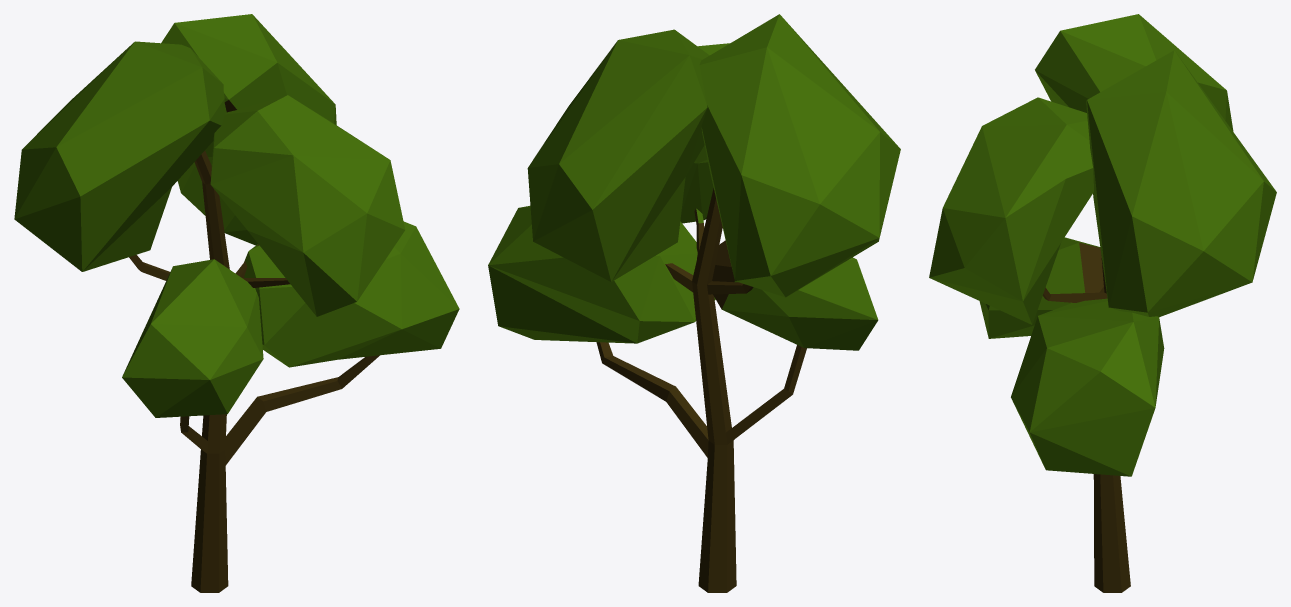
Rendered from tree5.fbx.
3 renders of one model, left to right at view 1: azimuth 30°, elevation 25°; view 2: azimuth 150°, elevation 25°; view 3: azimuth 270°, elevation 25°, orthographic. The views are drawn at different scales.
Visible parts, largest first — view 1: Tree_Type4_03_mesh; view 2: Tree_Type4_03_mesh; view 3: Tree_Type4_03_mesh.
Boxes of the visible parts, x1=… form: Tree_Type4_03_mesh: x1=14, y1=14, x2=459, y2=592; Tree_Type4_03_mesh: x1=488, y1=14, x2=900, y2=592; Tree_Type4_03_mesh: x1=929, y1=14, x2=1276, y2=592.
Size of the model in its own units: 333 by 455 by 265.
